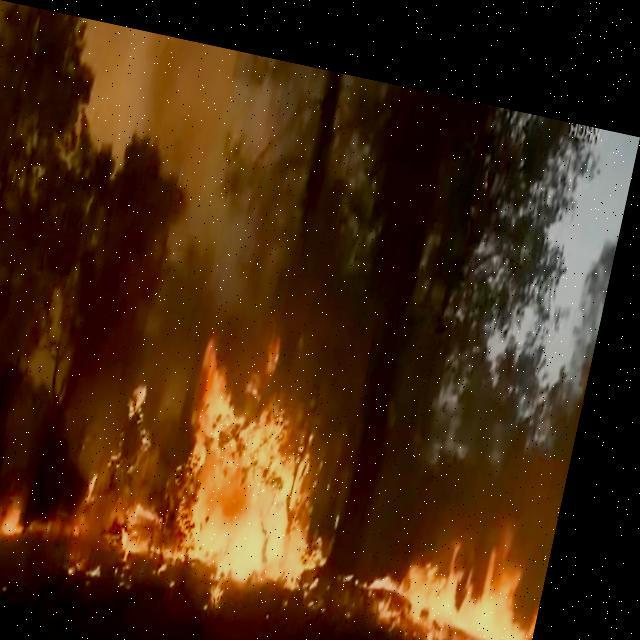Fire: (77, 276, 396, 622), (373, 459, 574, 639), (0, 454, 57, 590)
